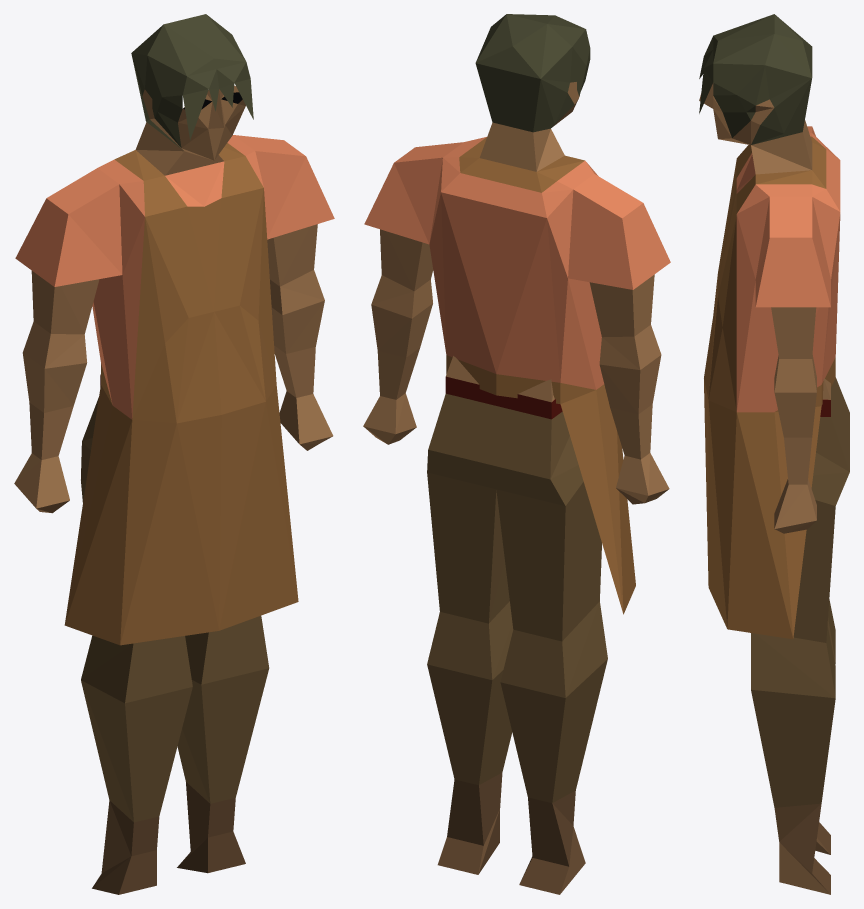
The model's file is tanners.gltf.
3 views of the same model, side by side, from view 1: azimuth 30°, elevation 25°; view 2: azimuth 150°, elevation 25°; view 3: azimuth 270°, elevation 25° (orthographic). The views are drawn at different scales.
Size of the model in its own units: 70 by 197 by 32.
Materials: 1 (1 with a texture image).
